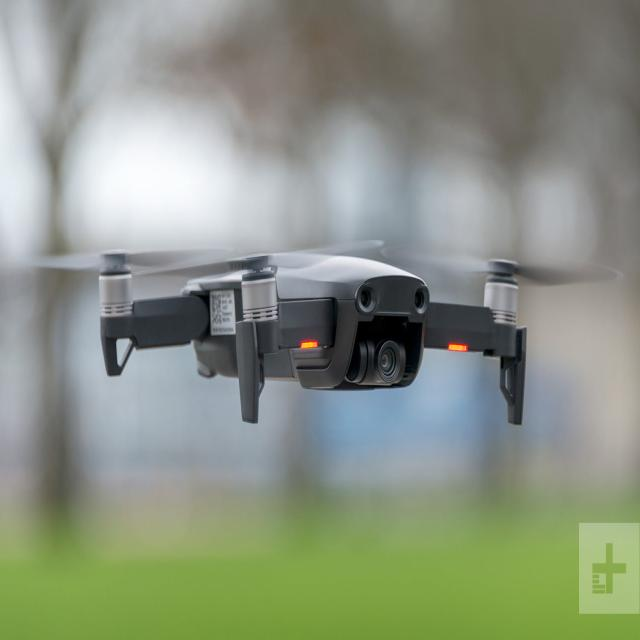drone: (49, 201, 574, 471)
